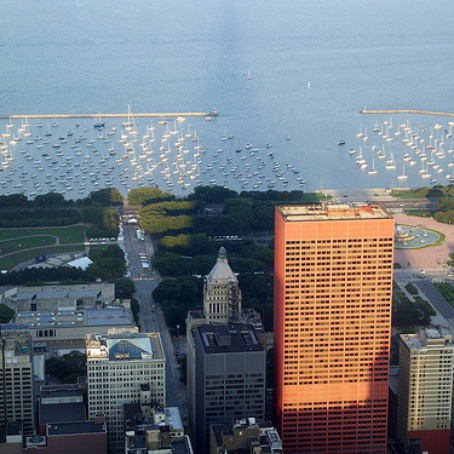building: (277, 205, 391, 452), (187, 252, 274, 448), (76, 327, 165, 444), (1, 279, 140, 342), (398, 327, 454, 447), (1, 336, 49, 444)
sea: (1, 1, 445, 183)
